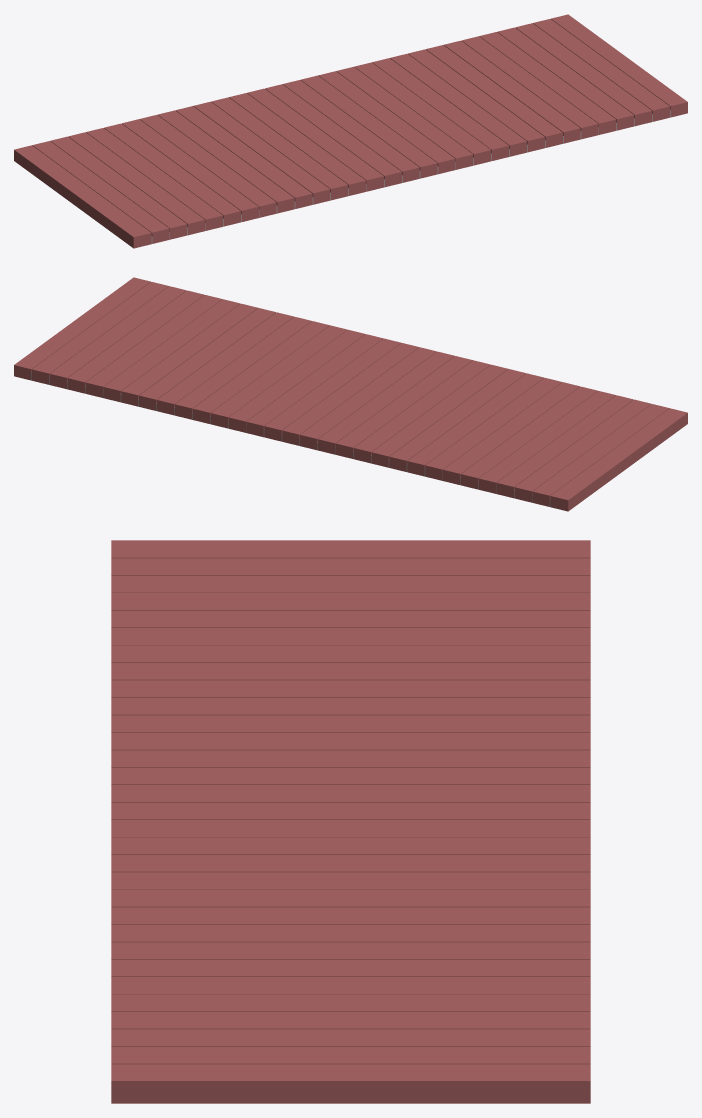
File: roof.fbx
3 renders of one model, top to bottom at view 1: azimuth 30°, elevation 25°; view 2: azimuth 150°, elevation 25°; view 3: azimuth 270°, elevation 25°, orthographic. The views are drawn at different scales.
Visible parts, largest first — view 1: polySurface24; view 2: polySurface24; view 3: polySurface24.
Part boxes in pixels (left/top/right/bottom): polySurface24: left=14, top=14, right=687, bottom=248; polySurface24: left=14, top=277, right=687, bottom=511; polySurface24: left=111, top=540, right=590, bottom=1103.
Bounding box in the file's own units: 138 × 2.69 × 51.51.
